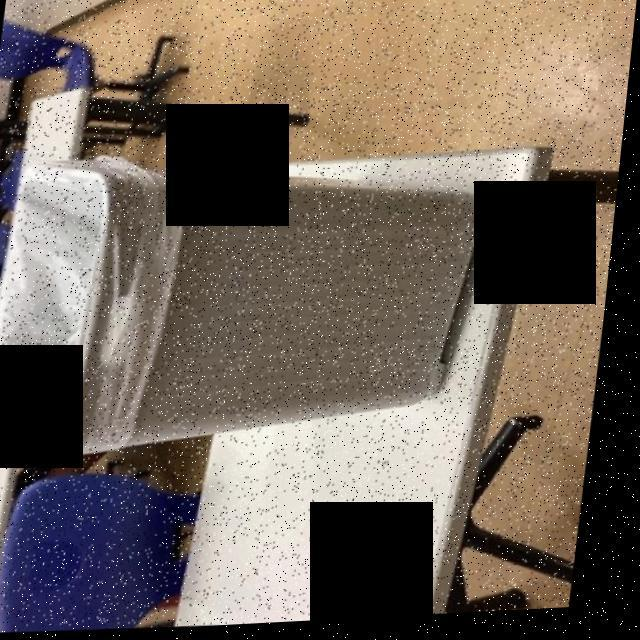bin: (0, 125, 535, 516)
